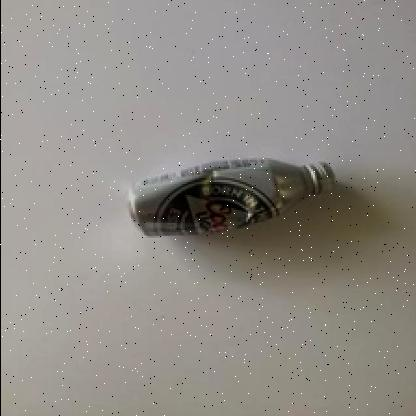Can: (124, 155, 337, 239)
